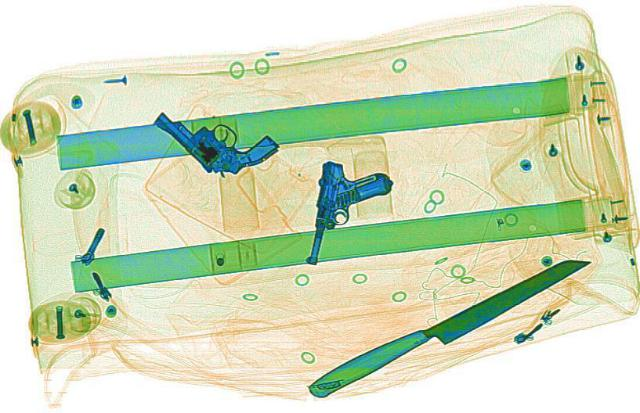Gun: (142, 89, 286, 180), (300, 159, 396, 266)
Knife: (298, 248, 598, 401)
